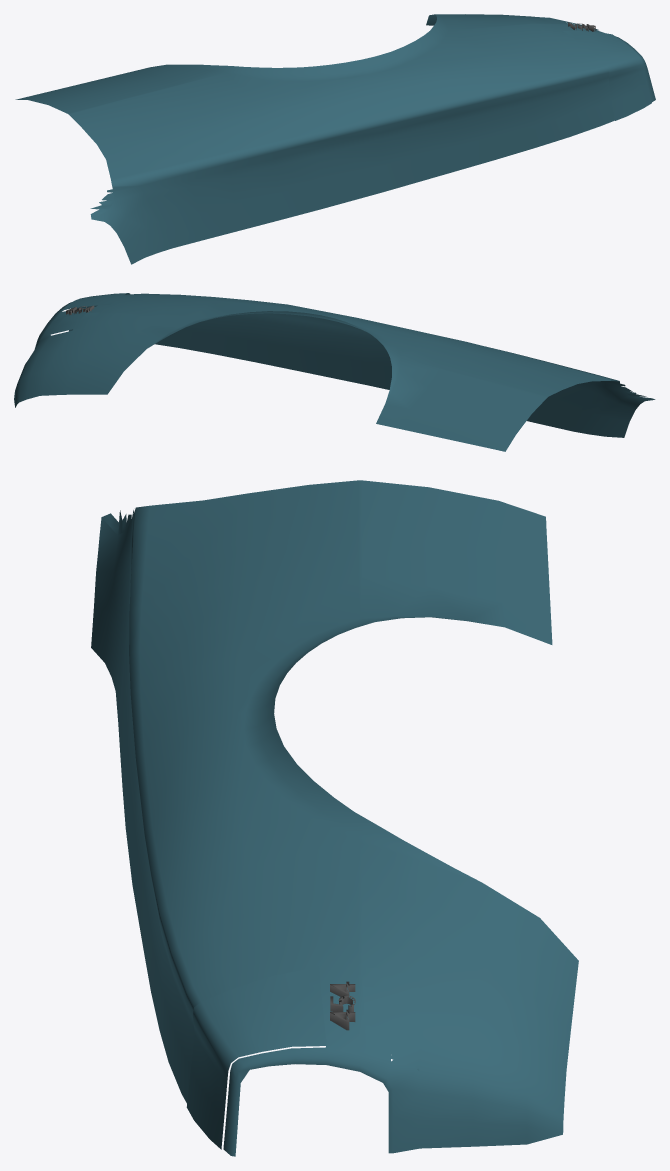
File: CamaroFrontFenderLeft.obj
The picture shows the model from 3 angles, top to bottom: view 1: azimuth 30°, elevation 25°; view 2: azimuth 150°, elevation 25°; view 3: azimuth 270°, elevation 25°; orthographic projection. The views are drawn at different scales.
Bounding box in the file's own units: 7.31 × 1.24 × 2.78.
